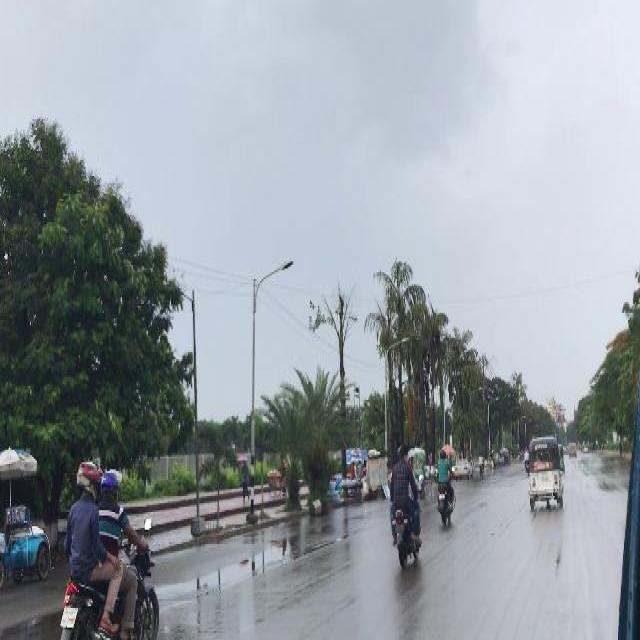bicycle: (477, 453, 483, 479)
car: (455, 457, 473, 478)
motorbike: (58, 457, 160, 638), (390, 444, 418, 569), (438, 452, 454, 526), (523, 446, 529, 476)
pickup: (568, 443, 576, 457)
rickshaw: (413, 452, 431, 498)
three wheelers -CNG-: (528, 436, 562, 510), (558, 442, 564, 472)
